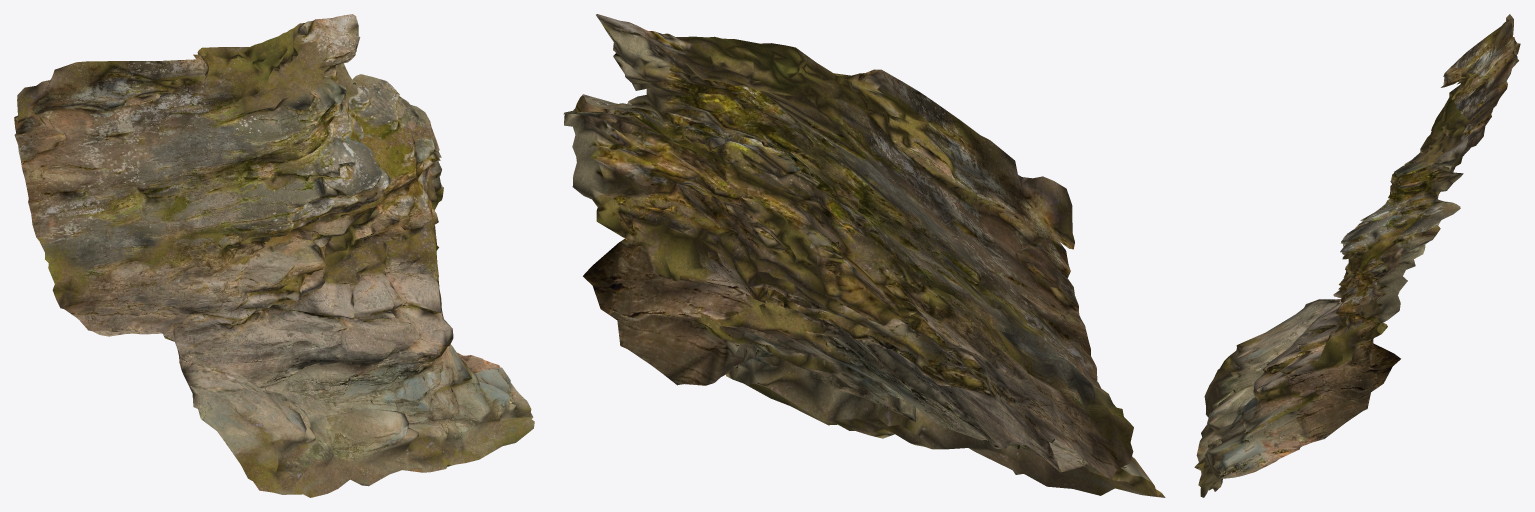
Rendered from rock_face_02.glb.
3 renders of one model, left to right at view 1: azimuth 30°, elevation 25°; view 2: azimuth 150°, elevation 25°; view 3: azimuth 270°, elevation 25°, orthographic. The views are drawn at different scales.
Visible parts, largest first — view 1: rock_face_02_lod0; view 2: rock_face_02_lod0; view 3: rock_face_02_lod0.
Boxes of the visible parts, <box> form: rock_face_02_lod0: <box>14,14,534,497</box>; rock_face_02_lod0: <box>563,14,1165,497</box>; rock_face_02_lod0: <box>1194,14,1520,497</box>.
Size of what is drawn, in the model's own units: 2.71 by 2.47 by 2.13.
Materials: 1 (1 with a texture image).
